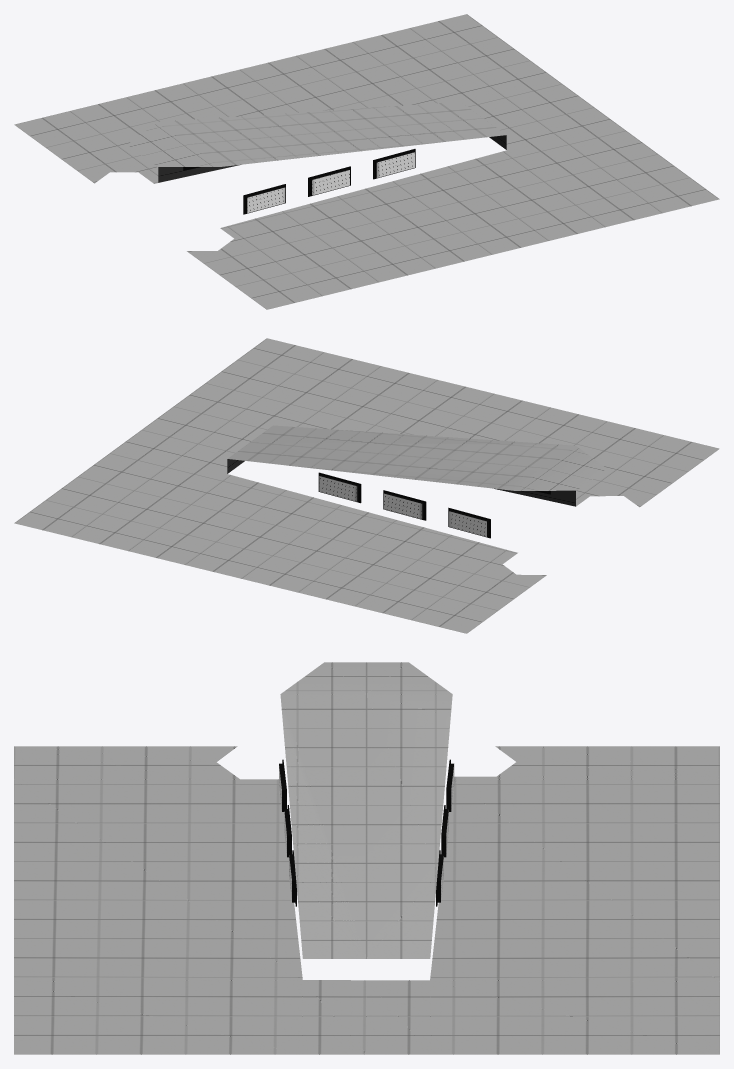
Rendered from EndLevel_Ceiling.fbx.
The picture shows the model from 3 angles, top to bottom: view 1: azimuth 30°, elevation 25°; view 2: azimuth 150°, elevation 25°; view 3: azimuth 270°, elevation 25°; orthographic projection. The views are drawn at different scales.
Parts seen in each view (by area): view 1: GlassCeiling:EndLevel:polySurface36; view 2: GlassCeiling:EndLevel:polySurface36; view 3: GlassCeiling:EndLevel:polySurface36.
Boxes of the visible parts, <box> form: GlassCeiling:EndLevel:polySurface36: <box>14,14,719,309</box>; GlassCeiling:EndLevel:polySurface36: <box>14,338,719,633</box>; GlassCeiling:EndLevel:polySurface36: <box>14,662,719,1054</box>.
Size of the model in its own units: 28.83 by 3.71 by 27.88.
4 materials, 3 textured.
